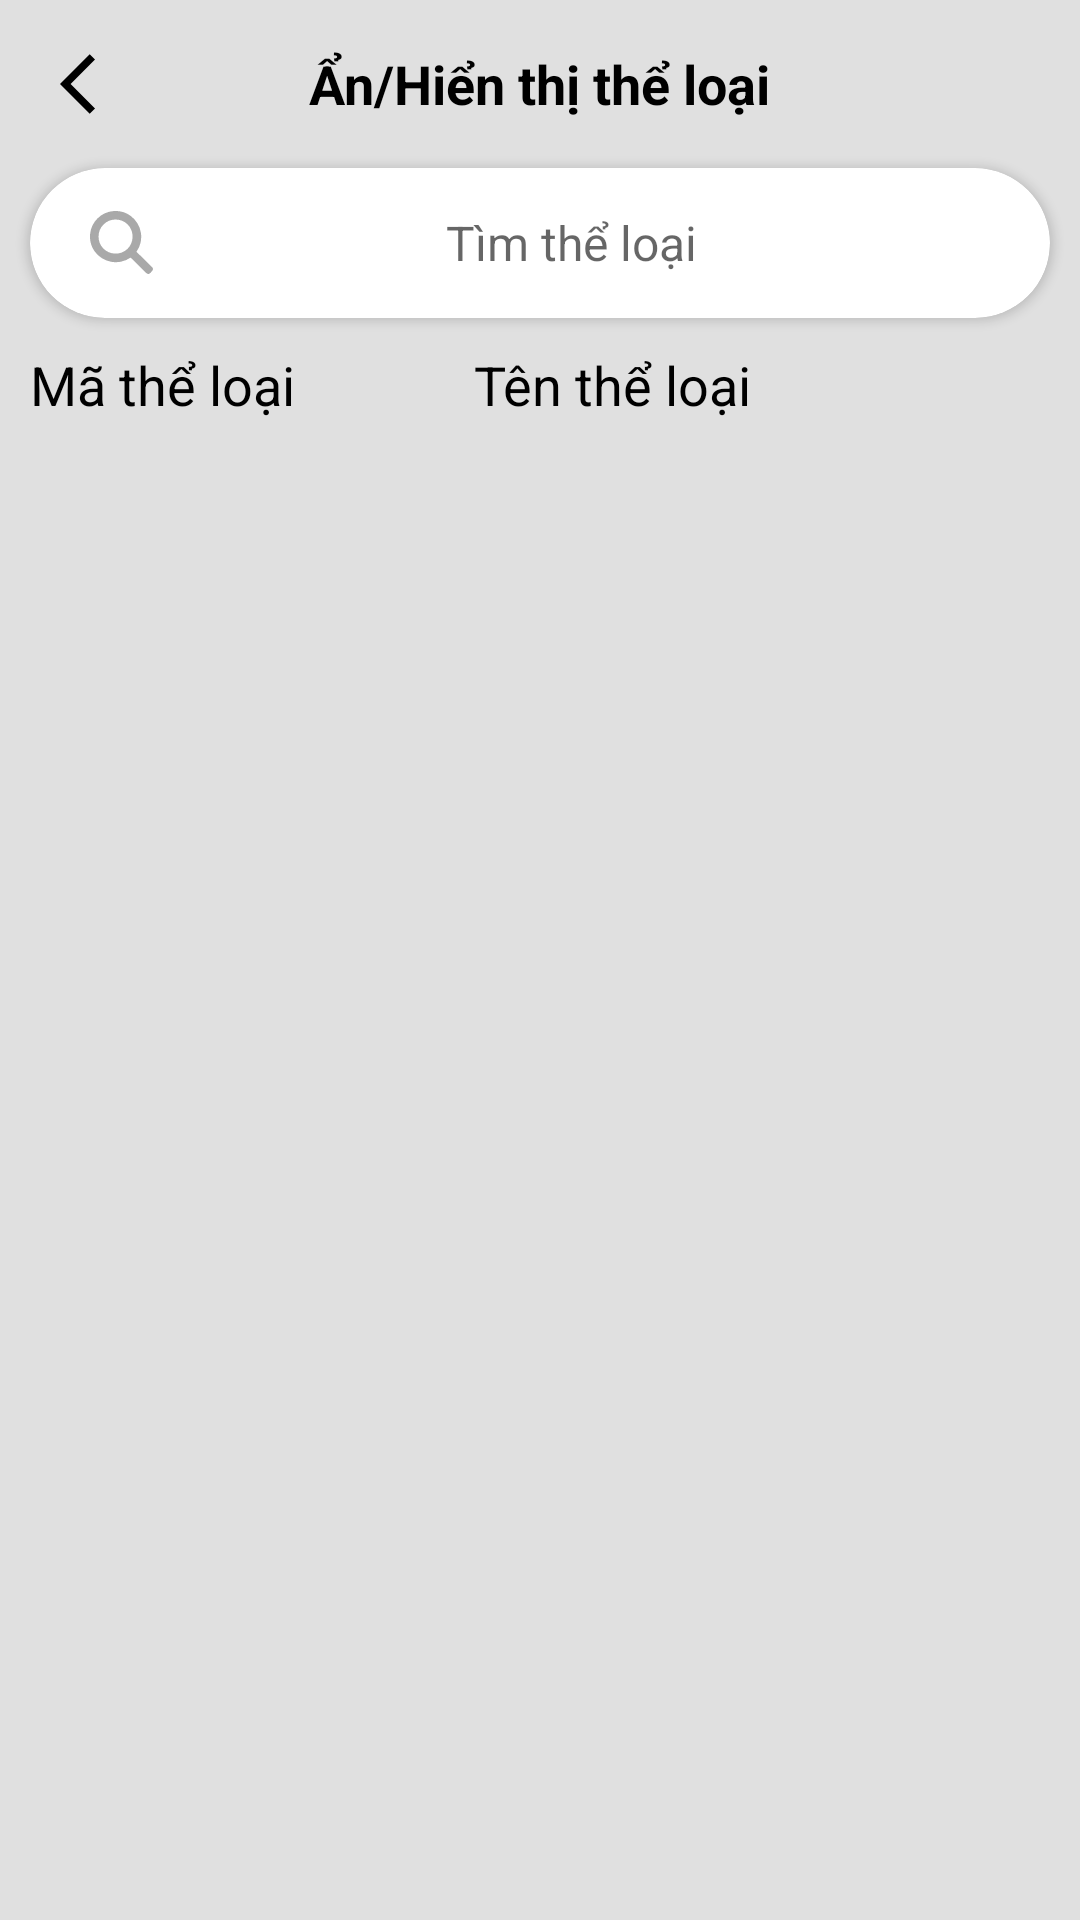

Named icons in this screenshot (1080w x 1920h) and their bounding boxes, Rect(x1, y1, x2, y2):
back arrow: Rect(60, 54, 95, 114)
